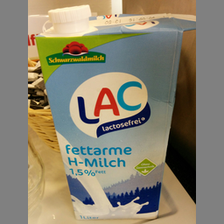milk: (35, 6, 201, 224)
